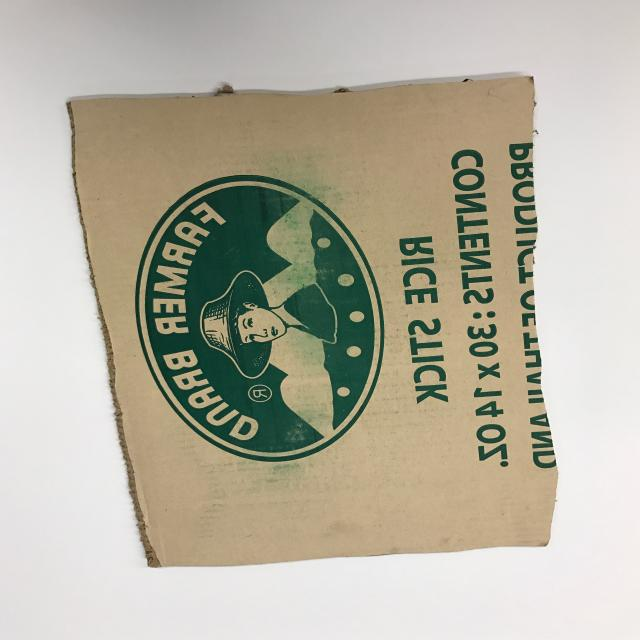cardboard: (66, 73, 559, 568)
